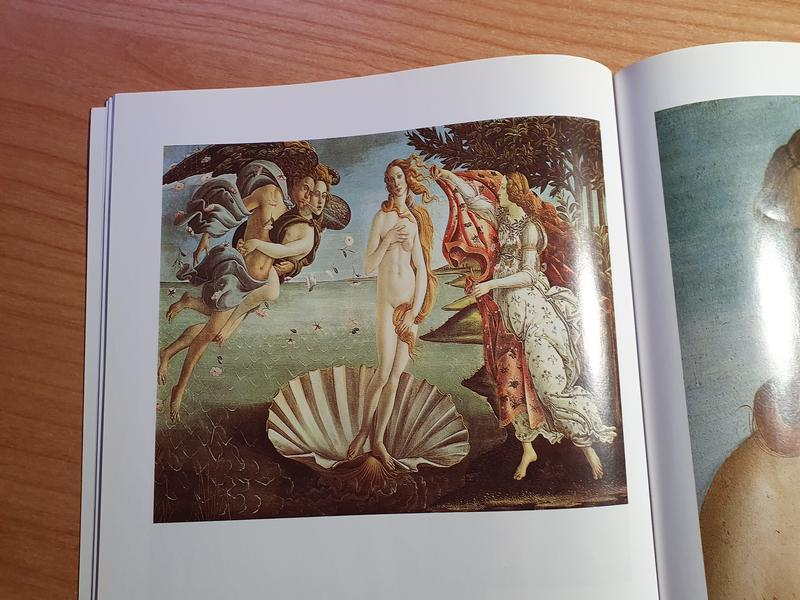Venere: (151, 114, 630, 524)
